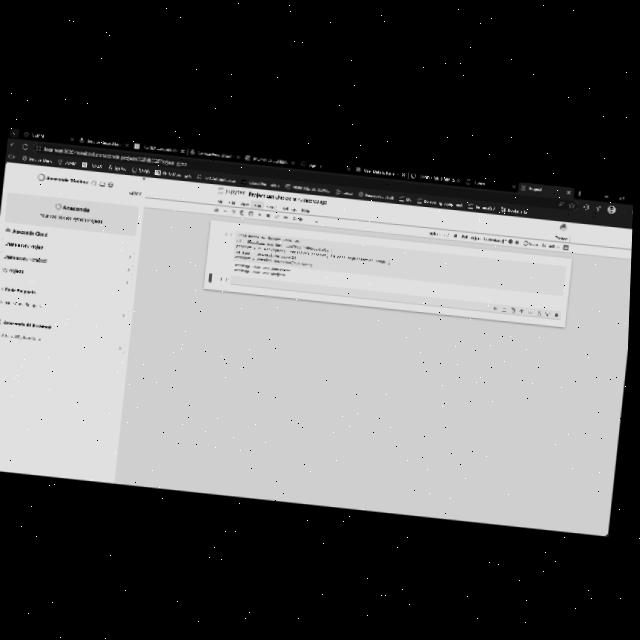code_screen: (203, 221, 573, 327)
